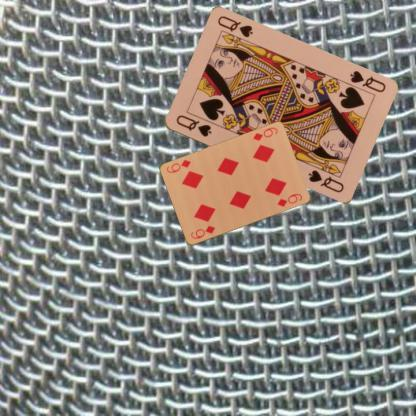6d: (188, 222, 216, 240), (250, 125, 279, 142)
Qs: (172, 112, 212, 139), (346, 68, 387, 94)
